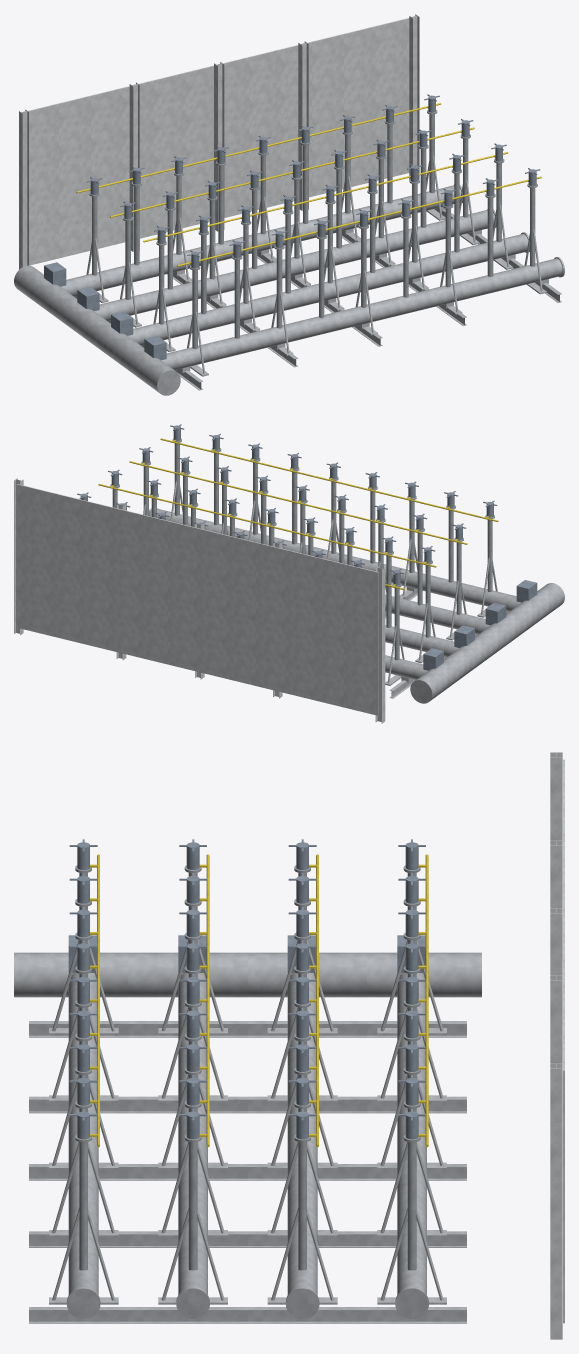
The model's file is mpgf-manifolds-and-structures.glb.
3 views of the same model, one above another, from view 1: azimuth 30°, elevation 25°; view 2: azimuth 150°, elevation 25°; view 3: azimuth 270°, elevation 25° (orthographic). The views are drawn at different scales.
Parts seen in each view (by area): view 1: WindFence(part), StagingHeaders&Manifold, BurnerRisers, Sleepers&RiserSupports, BurnerTips&Valves(context), PilotLines; view 2: WindFence(part), StagingHeaders&Manifold, BurnerRisers, BurnerTips&Valves(context), PilotLines, Sleepers&RiserSupports; view 3: Sleepers&RiserSupports, StagingHeaders&Manifold, BurnerTips&Valves(context), WindFence(part), BurnerRisers, PilotLines.
Part boxes in pixels (bbox=[...]): WindFence(part): bbox=[19, 14, 419, 269]; StagingHeaders&Manifold: bbox=[14, 184, 564, 395]; BurnerRisers: bbox=[89, 110, 537, 348]; Sleepers&RiserSupports: bbox=[74, 155, 561, 390]; BurnerTips&Valves(context): bbox=[44, 94, 540, 360]; PilotLines: bbox=[76, 103, 541, 266]; WindFence(part): bbox=[14, 478, 385, 723]; StagingHeaders&Manifold: bbox=[149, 508, 564, 703]; BurnerRisers: bbox=[110, 438, 494, 660]; BurnerTips&Valves(context): bbox=[77, 424, 537, 670]; PilotLines: bbox=[98, 438, 498, 590]; Sleepers&RiserSupports: bbox=[143, 481, 508, 698]; Sleepers&RiserSupports: bbox=[29, 940, 466, 1323]; StagingHeaders&Manifold: bbox=[14, 952, 481, 1318]; BurnerTips&Valves(context): bbox=[68, 839, 425, 1139]; WindFence(part): bbox=[550, 752, 564, 1339]; BurnerRisers: bbox=[75, 865, 420, 1270]; PilotLines: bbox=[90, 854, 428, 1147].
Size of the model in its own units: 16.17 by 6 by 11.07.
6 materials, 6 textured.
